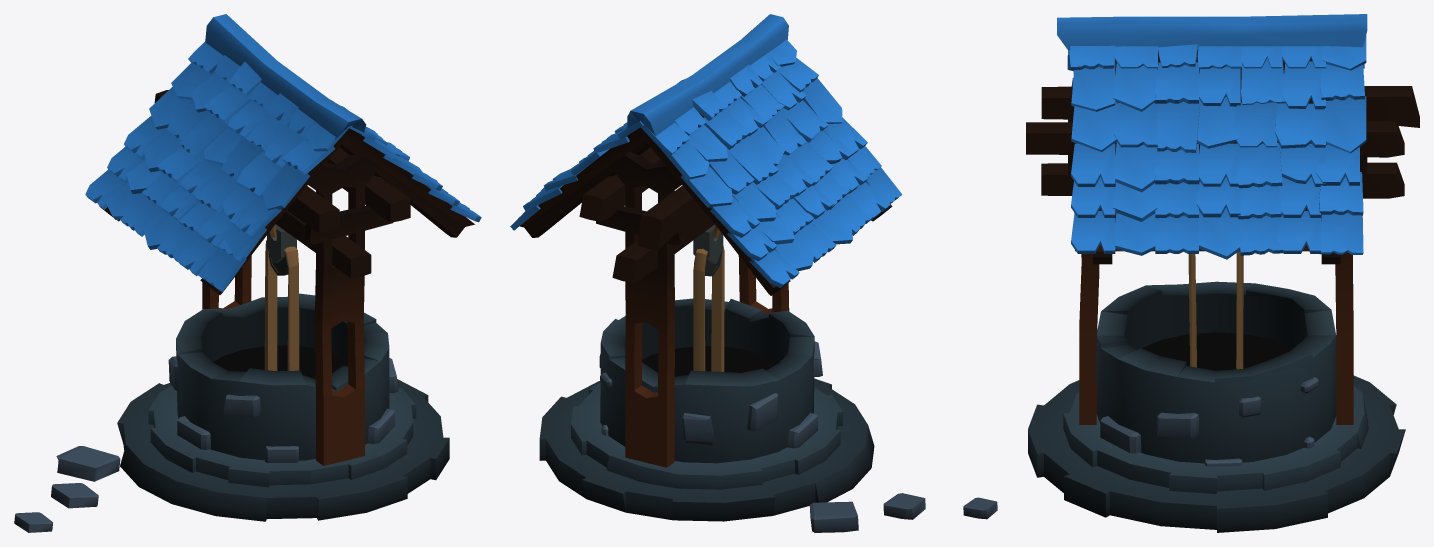
File: Well.fbx
The picture shows the model from 3 angles, left to right: view 1: azimuth 30°, elevation 25°; view 2: azimuth 150°, elevation 25°; view 3: azimuth 270°, elevation 25°; orthographic projection. The views are drawn at different scales.
Parts seen in each view (by area): view 1: Well; view 2: Well; view 3: Well.
Boxes of the visible parts, bbox=[...] form: Well: bbox=[14, 14, 481, 532]; Well: bbox=[510, 14, 997, 532]; Well: bbox=[1026, 14, 1419, 532].
Bounding box in the file's own units: 761 × 685 × 549.
